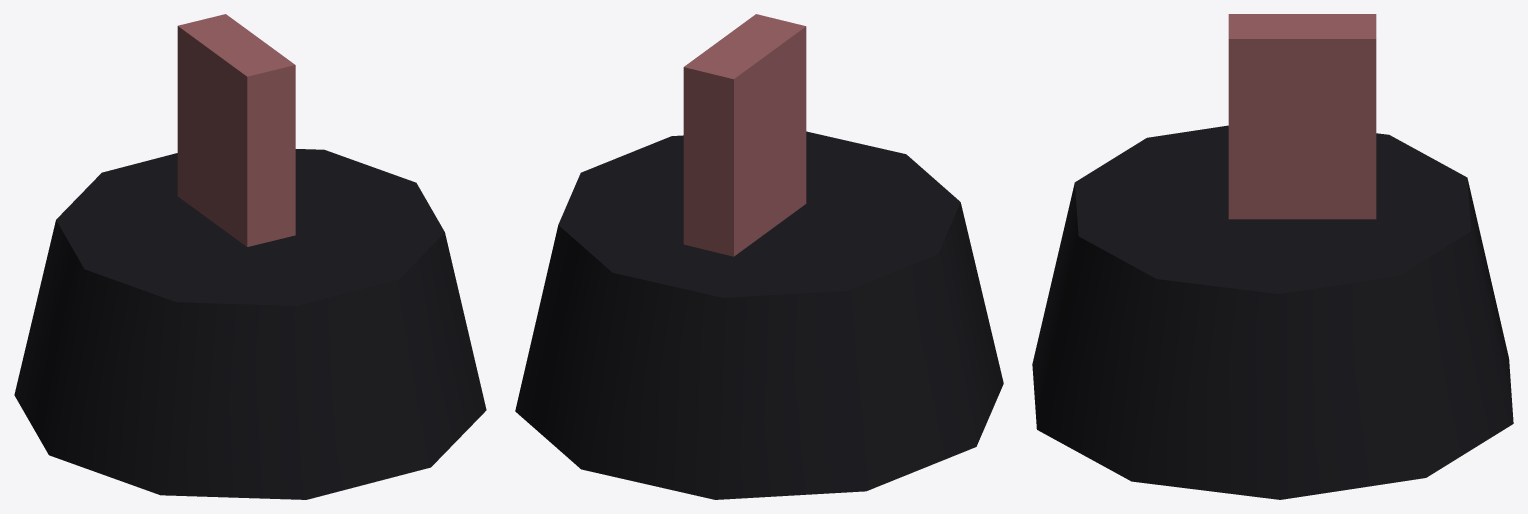
The model's file is head.glb.
3 views of the same model, side by side, from view 1: azimuth 30°, elevation 25°; view 2: azimuth 150°, elevation 25°; view 3: azimuth 270°, elevation 25° (orthographic). The views are drawn at different scales.
Visible parts, largest first — view 1: helmet, crest; view 2: helmet, crest; view 3: helmet, crest.
Part boxes in pixels (<box>): helmet: <box>14,149,486,499</box>; crest: <box>177,14,295,246</box>; helmet: <box>515,131,1003,499</box>; crest: <box>683,14,806,256</box>; helmet: <box>1032,125,1513,499</box>; crest: <box>1228,14,1376,219</box>.
Bounding box in the file's own units: 0.6797 × 0.55 × 0.6526.
